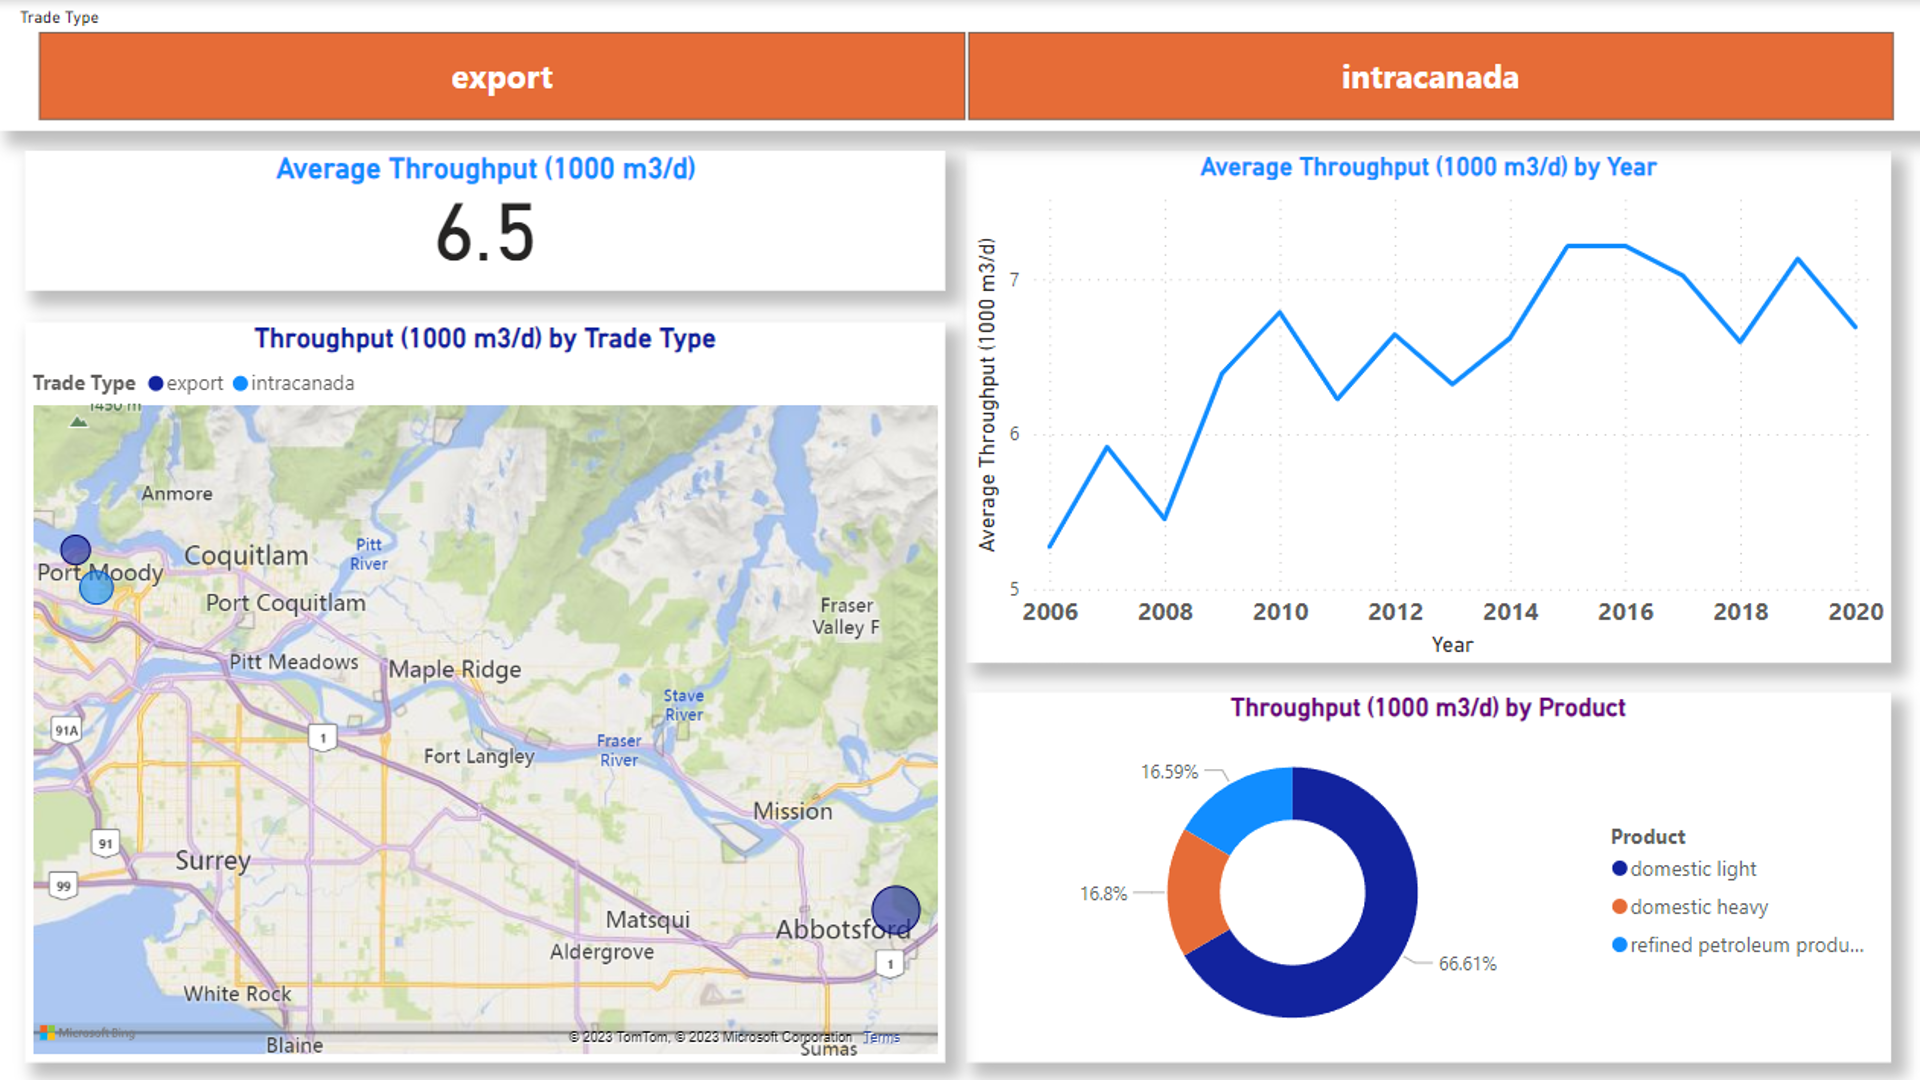

The dashboard page shown, as its layout file describes it:
{"tool":"powerbi","page":{"name":"Dashboard  - Ques 2","canvas":[1280,720],"ordinal":2},"visuals":[{"type":"lineChart","title":"Average Throughput (1000 m3/d) by Year","fields":{"Category":["Sheet1.Year"],"Y":["Avg(Sheet1.Throughput (1000 m3/d))"]},"box":[640.5,99.9,613.3,339.2],"z":0},{"type":"slicer","fields":{"Values":["Sheet1.Trade Type"]},"box":[0,0,1279.5,86.4],"z":1000},{"type":"donutChart","title":"Throughput (1000 m3/d) by Product","fields":{"Y":["Sum(Sheet1.Throughput (1000 m3/d))"],"Category":["Sheet1.Product"]},"box":[640.5,458.8,613.3,245.3],"z":2000},{"type":"card","title":"Average Throughput (1000 m3/d)","fields":{"Values":["Avg(Sheet1.Throughput (1000 m3/d))"]},"box":[16.7,99.9,610.2,92.4],"z":3000},{"type":"map","title":"Throughput (1000 m3/d) by Trade Type","fields":{"Y":["Sheet1.Latitude"],"X":["Sheet1.Longitude"],"Size":["Avg(Sheet1.Throughput (1000 m3/d))"],"Series":["Sheet1.Trade Type"]},"box":[16.7,213.5,610.2,490.6],"z":4000}]}

Visuals, with their boxes in screenshot pixels (x1, y1, x2, y2), scaled from the page's 1280x720 canvas onto the 1920x1080 screenshot:
"Average Throughput (1000 m3/d) by Year" lineChart: (961, 150, 1881, 659)
slicer - Sheet1.Trade Type: (0, 0, 1919, 130)
"Throughput (1000 m3/d) by Product" donutChart: (961, 688, 1881, 1056)
"Average Throughput (1000 m3/d)" card: (25, 150, 940, 288)
"Throughput (1000 m3/d) by Trade Type" map: (25, 320, 940, 1056)
